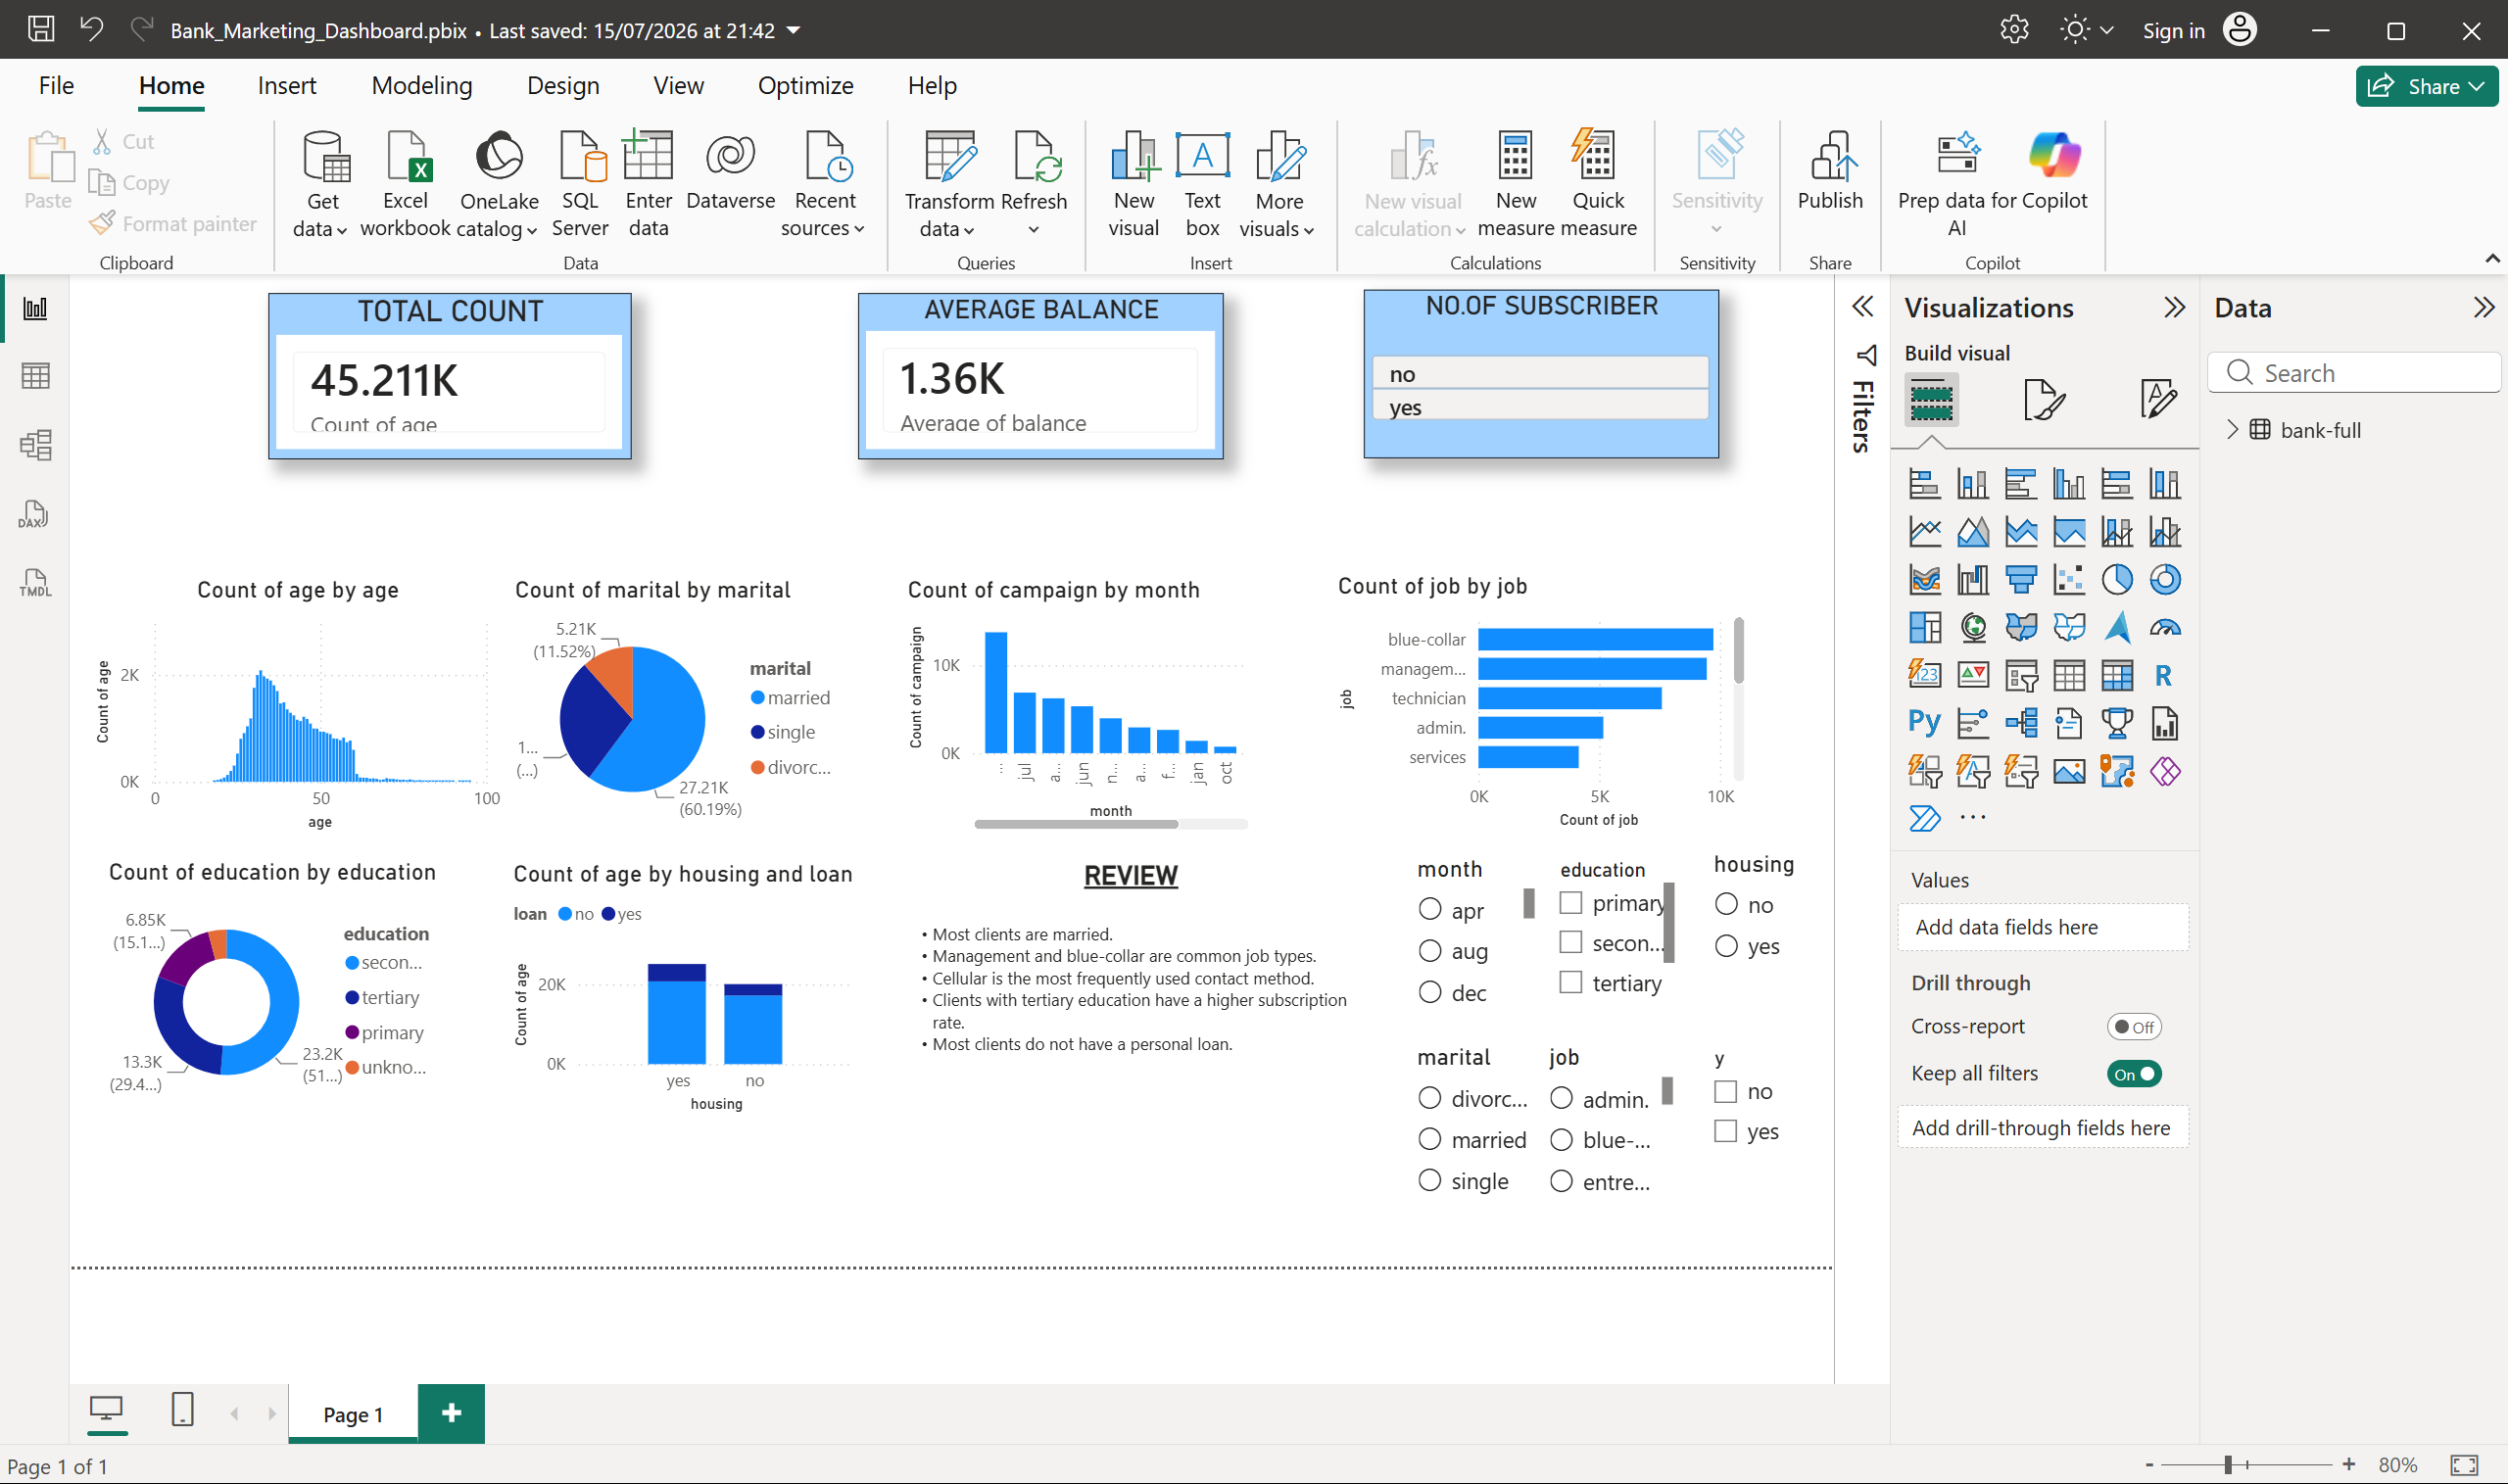

The dashboard page shown, as its layout file describes it:
{"tool":"powerbi","page":{"name":"Page 1","canvas":[1280,720],"ordinal":0},"visuals":[{"type":"cardVisual","title":"TOTAL COUNT","fields":{"Data":["CountNonNull(bank-full.age)"]},"box":[144.8,13.2,263.3,120.4],"z":0},{"type":"cardVisual","title":"AVERAGE BALANCE","fields":{"Data":["Avg(bank-full.balance)"]},"box":[571.8,13.2,265.2,120.4],"z":1000},{"type":"cardVisual","title":"NO.OF SUBSCRIBER","fields":{"Rows":["bank-full.y"]},"box":[938.5,11.3,257.7,122.3],"z":2000},{"type":"columnChart","fields":{"Category":["bank-full.age"],"Y":["CountNonNull(bank-full.age)"]},"box":[13.4,218.5,304.7,188.8],"z":3000},{"type":"clusteredBarChart","fields":{"Category":["bank-full.job"],"Y":["CountNonNull(bank-full.job)"]},"box":[915.9,216.3,304.7,190],"z":4000},{"type":"pieChart","fields":{"Category":["bank-full.marital"],"Y":["CountNonNull(bank-full.marital)"]},"box":[318,219,253,189],"z":5000},{"type":"donutChart","fields":{"Category":["bank-full.education"],"Y":["CountNonNull(bank-full.education)"]},"box":[23.9,423.9,253.2,189],"z":6000},{"type":"clusteredColumnChart","fields":{"Category":["bank-full.month"],"Y":["CountNonNull(bank-full.campaign)"]},"box":[603,219,257,189],"z":7000},{"type":"columnChart","fields":{"Category":["bank-full.housing"],"Series":["bank-full.loan"],"Y":["CountNonNull(bank-full.age)"]},"box":[317.4,425.7,256.9,187.2],"z":8000},{"type":"slicer","fields":{"Values":["bank-full.y"]},"box":[1180.3,554.7,99.1,108.3],"z":9000},{"type":"listSlicer","fields":{"Values":["bank-full.housing"]},"box":[1187.8,417.9,85.8,95.8],"z":10000},{"type":"slicer","fields":{"Values":["bank-full.education"]},"box":[1068.4,417.9,100.7,110.7],"z":11000},{"type":"listSlicer","fields":{"Values":["bank-full.marital"]},"box":[972.6,558.4,93.3,126.9],"z":12000},{"type":"listSlicer","fields":{"Values":["bank-full.job"]},"box":[1068.4,558.4,100.7,115.7],"z":13000},{"type":"listSlicer","fields":{"Values":["bank-full.month"]},"box":[972.6,421.6,95.8,119.4],"z":14000},{"type":"textbox","title":"REVIEW","box":[603.7,425.7,334,183.5],"z":15000}]}

Visuals, with their boxes on the page's 1280x720 design canvas (x1, y1, x2, y2). These are canvas units, not pixel positions in the 2508x1484 screenshot, which may show the page scaled, cropped or inside an application window:
"TOTAL COUNT" cardVisual: 145 13 408 134
"AVERAGE BALANCE" cardVisual: 572 13 837 134
"NO.OF SUBSCRIBER" cardVisual: 938 11 1196 134
columnChart - bank-full.age x CountNonNull(bank-full.age): 13 218 318 407
clusteredBarChart - bank-full.job x CountNonNull(bank-full.job): 916 216 1221 406
pieChart - bank-full.marital x CountNonNull(bank-full.marital): 318 219 571 408
donutChart - bank-full.education x CountNonNull(bank-full.education): 24 424 277 613
clusteredColumnChart - bank-full.month x CountNonNull(bank-full.campaign): 603 219 860 408
columnChart - bank-full.housing x bank-full.loan: 317 426 574 613
slicer - bank-full.y: 1180 555 1279 663
listSlicer - bank-full.housing: 1188 418 1274 514
slicer - bank-full.education: 1068 418 1169 529
listSlicer - bank-full.marital: 973 558 1066 685
listSlicer - bank-full.job: 1068 558 1169 674
listSlicer - bank-full.month: 973 422 1068 541
"REVIEW" textbox: 604 426 938 609
